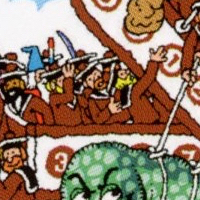wb: (25, 44, 46, 91)
